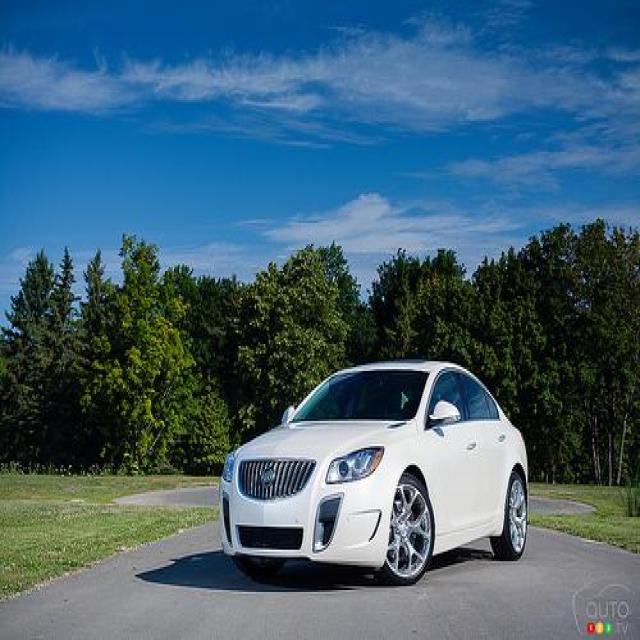Car: (198, 316, 540, 580)
